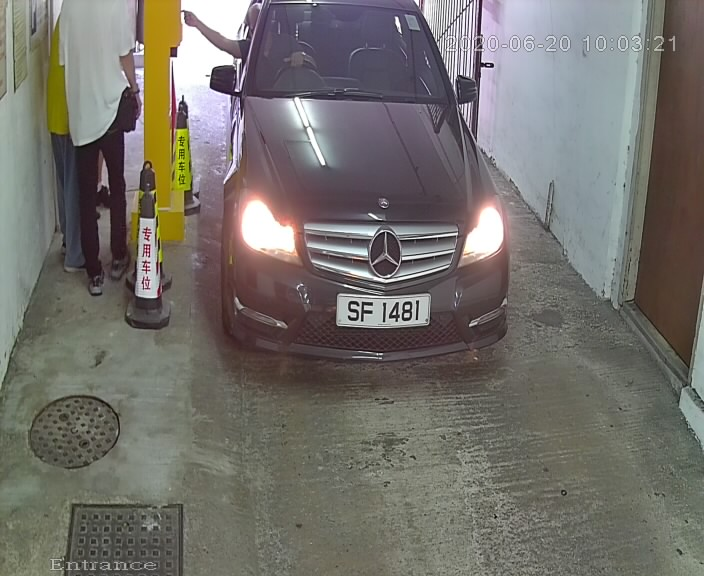privatecar: (198, 3, 545, 384)
